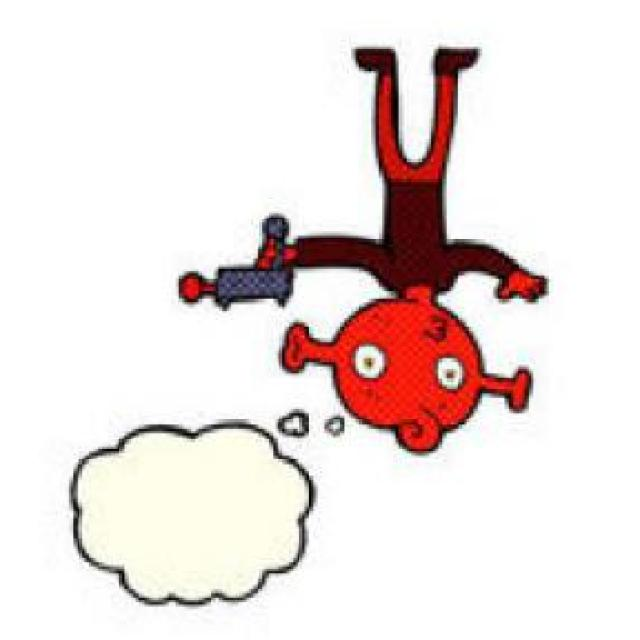pistol: (204, 217, 294, 311)
